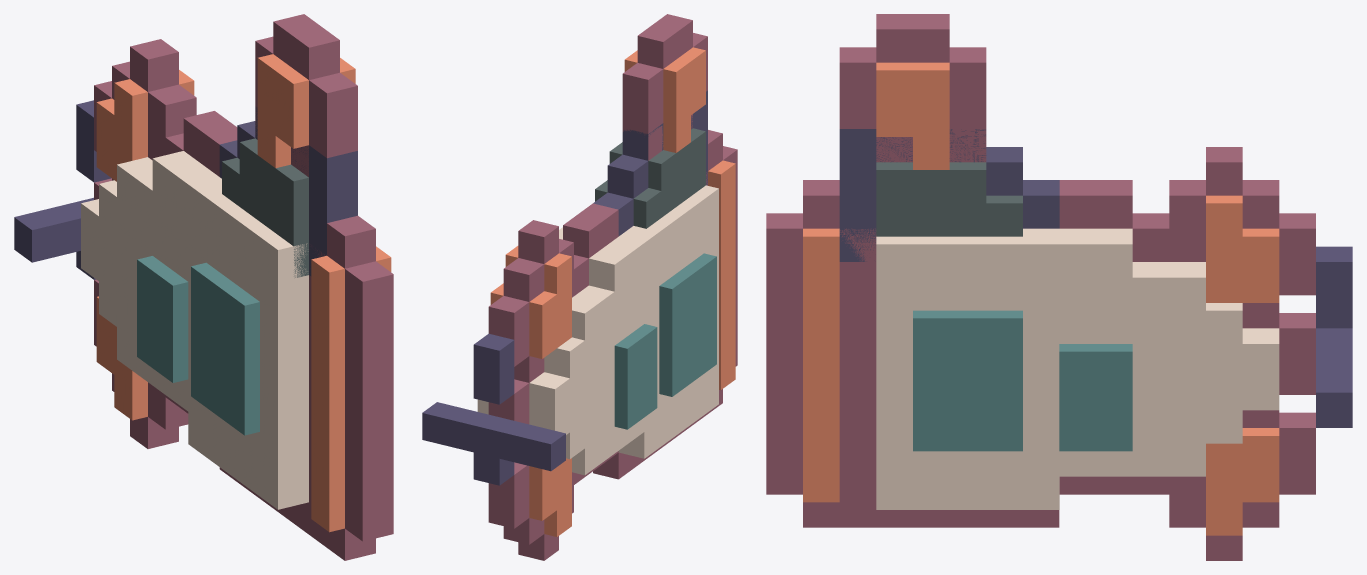
The model's file is BalancedShip.fbx.
The picture shows the model from 3 angles, left to right: view 1: azimuth 30°, elevation 25°; view 2: azimuth 150°, elevation 25°; view 3: azimuth 270°, elevation 25°; orthographic projection. The views are drawn at different scales.
Visible parts, largest first — view 1: Sprite2, Sprite1; view 2: Sprite1, Sprite2; view 3: Sprite2, Sprite1.
Part boxes in pixels (x1,y1,x2,y2): Sprite2: [14, 74, 393, 560]; Sprite1: [76, 14, 393, 508]; Sprite1: [473, 14, 737, 501]; Sprite2: [422, 63, 737, 560]; Sprite2: [766, 96, 1352, 560]; Sprite1: [766, 14, 1352, 494].
Bounding box in the file's own units: 1000 × 3200 × 3200.
